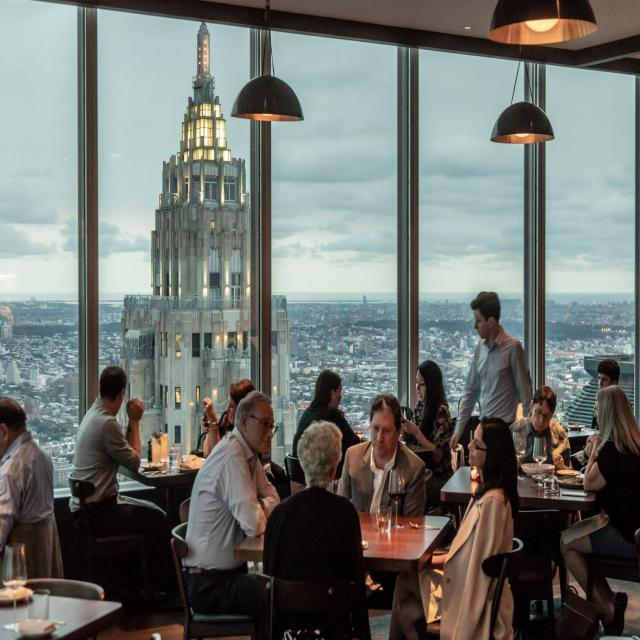person: (276, 427, 397, 640), (58, 358, 163, 529), (456, 430, 536, 638), (192, 405, 293, 565), (346, 397, 451, 534), (1, 382, 64, 590), (579, 374, 640, 574), (472, 287, 528, 439), (403, 356, 461, 500), (301, 366, 368, 449), (525, 374, 566, 472), (592, 344, 624, 397)
